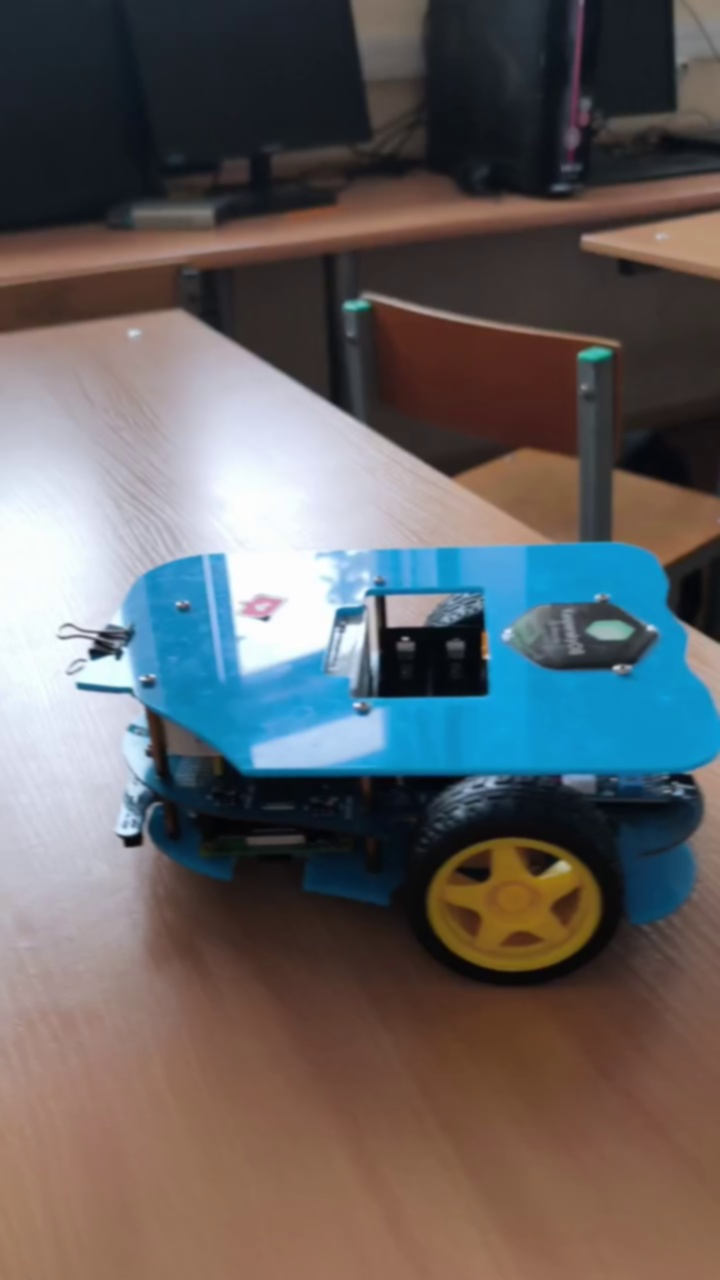robot: (55, 541, 720, 987)
